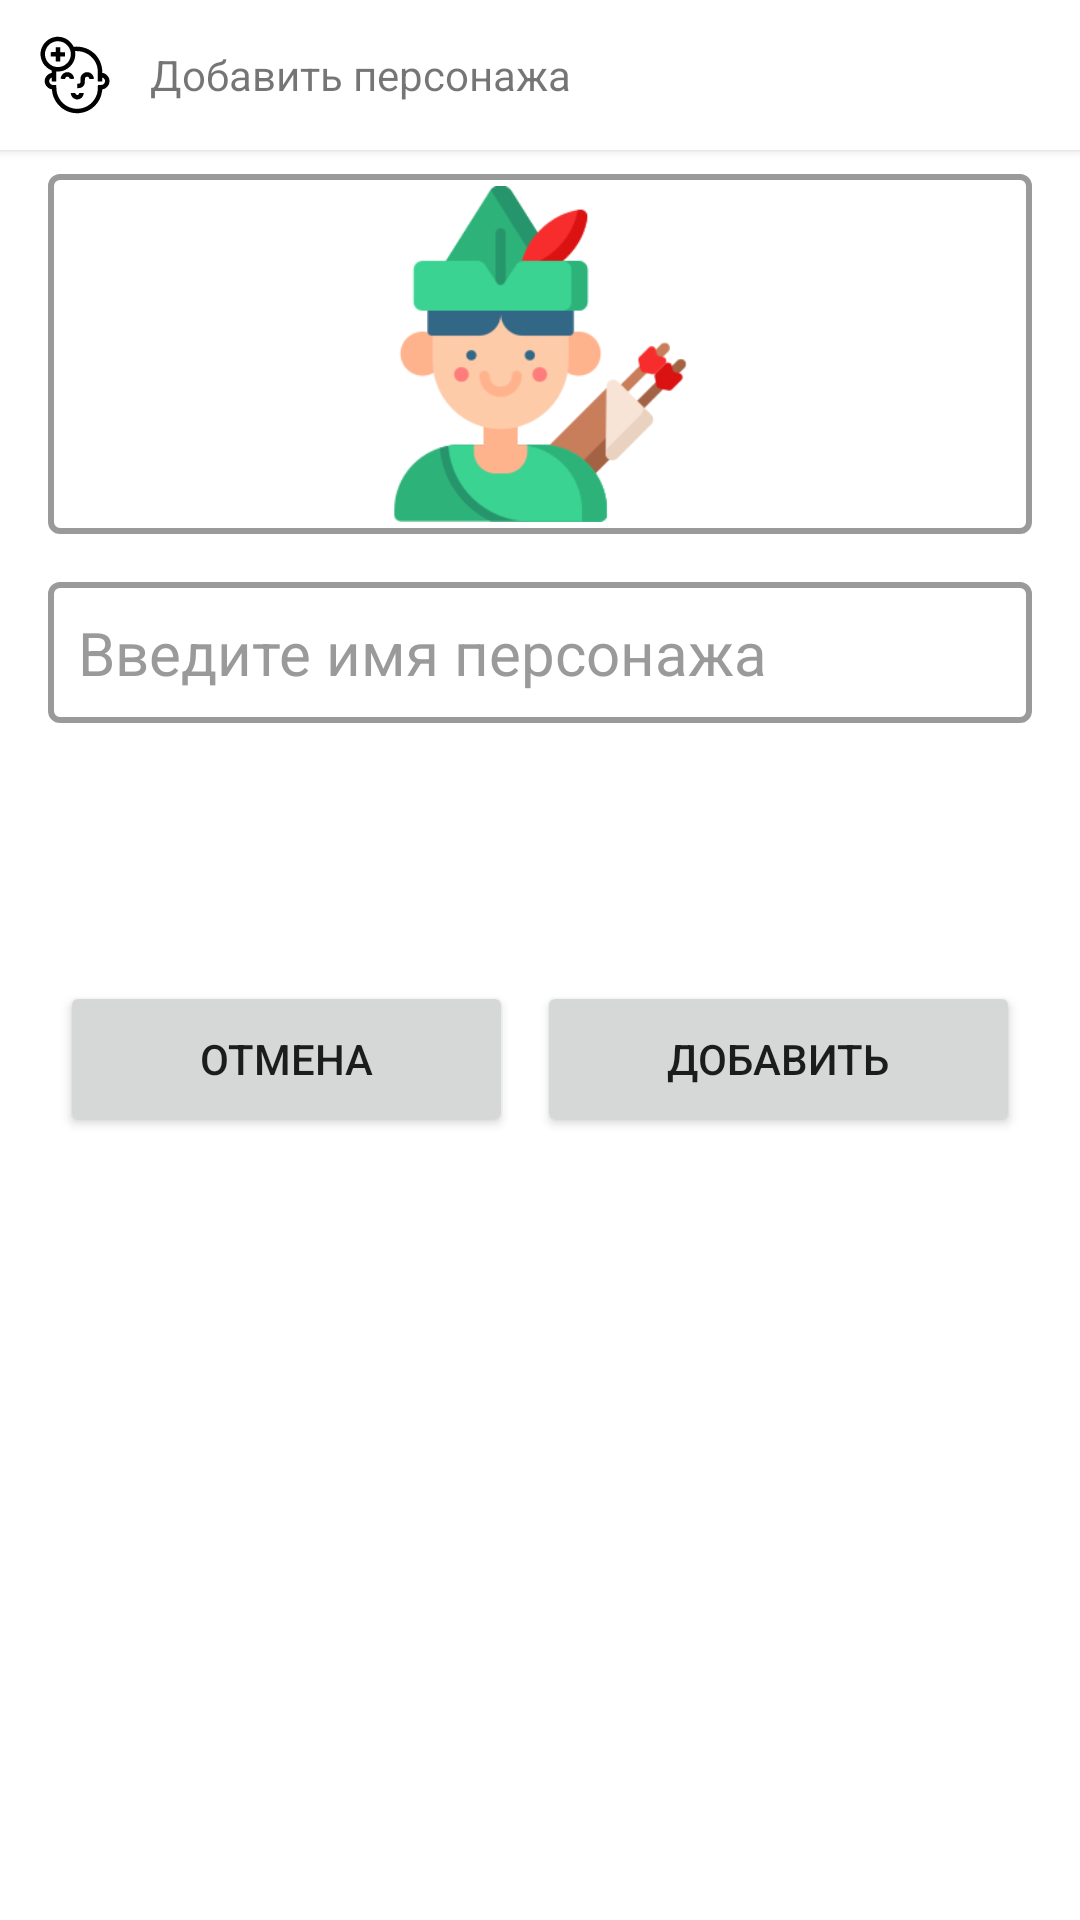

Where to tap for icons on this 1080x1920 app screen, as [x,y]:
character add: [75,75]
